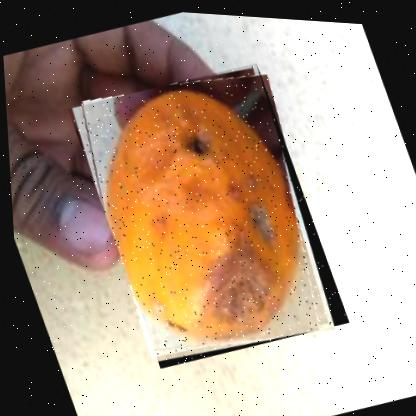orange_rotten: (62, 48, 348, 376)
